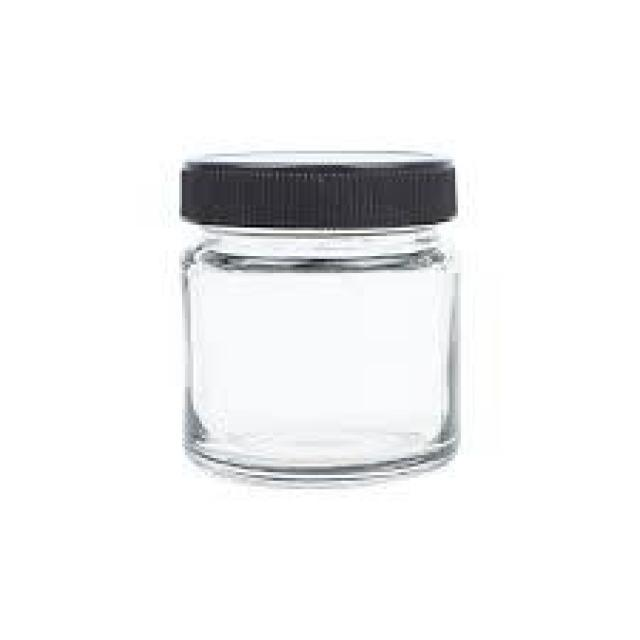Glass: (174, 146, 466, 485)
